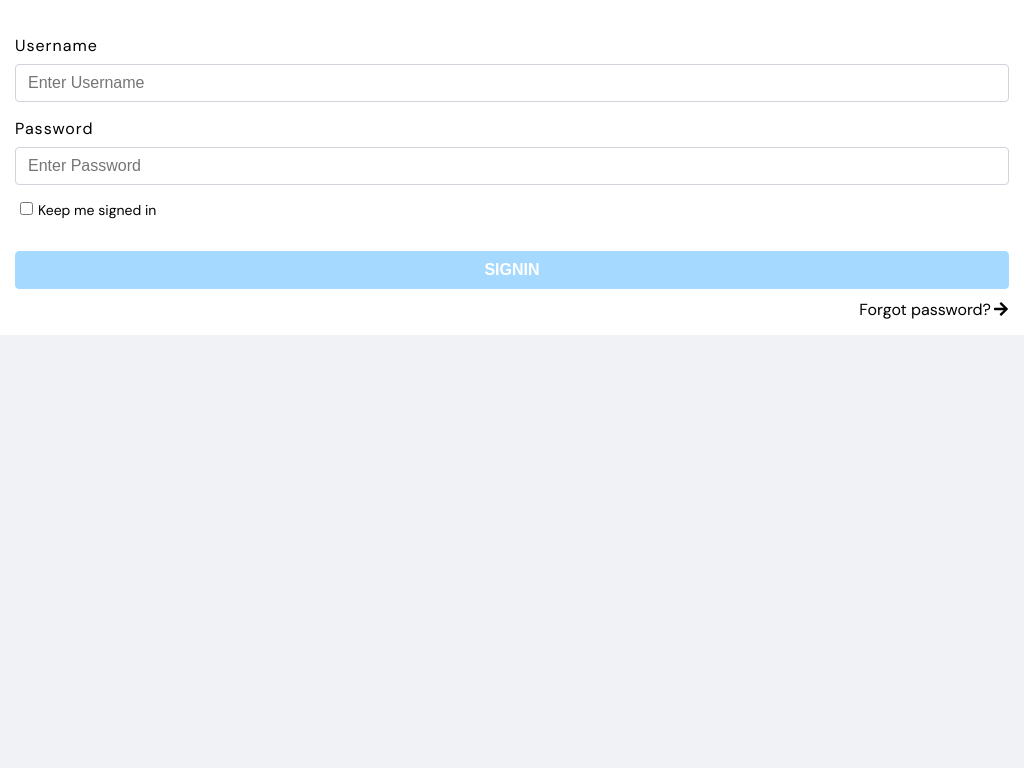
it: SignIn › Error › should display error alert and border
The width and height of the screenshot is (1024, 768).
Type "ma" into the field labelled "Username".
click(512, 83); type("ma")  # box [15,64,1009,102]
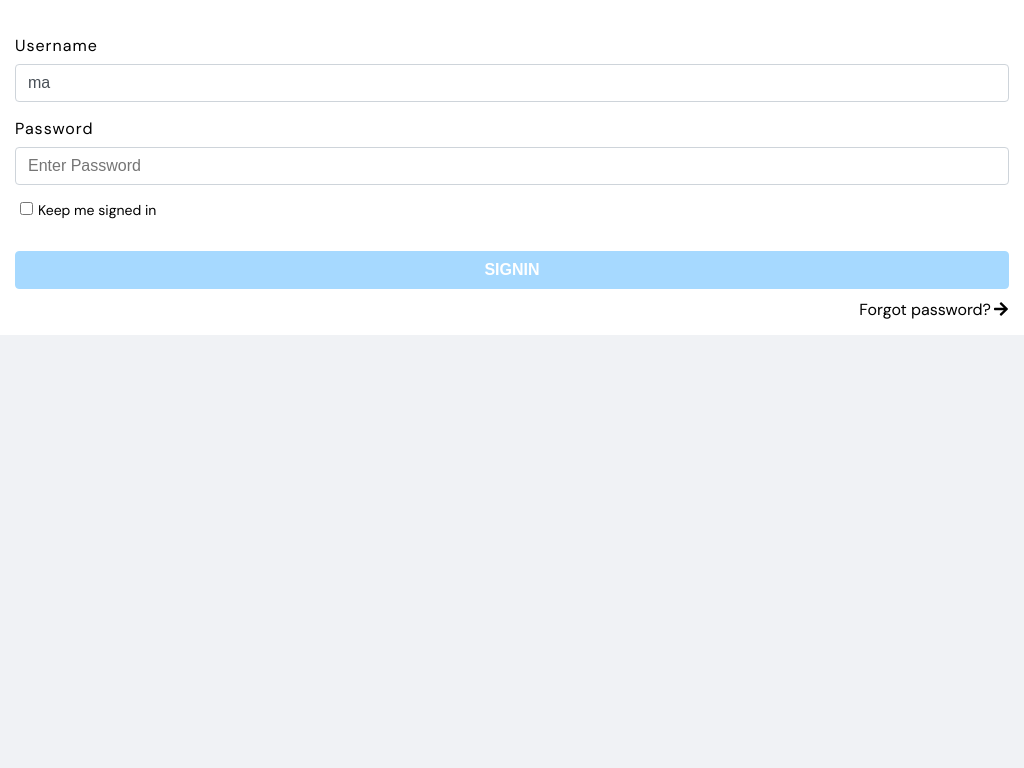
Type "qwerty" into the password field labelled "Password".
click(512, 166); type("qwerty")  # box [15,147,1009,185]
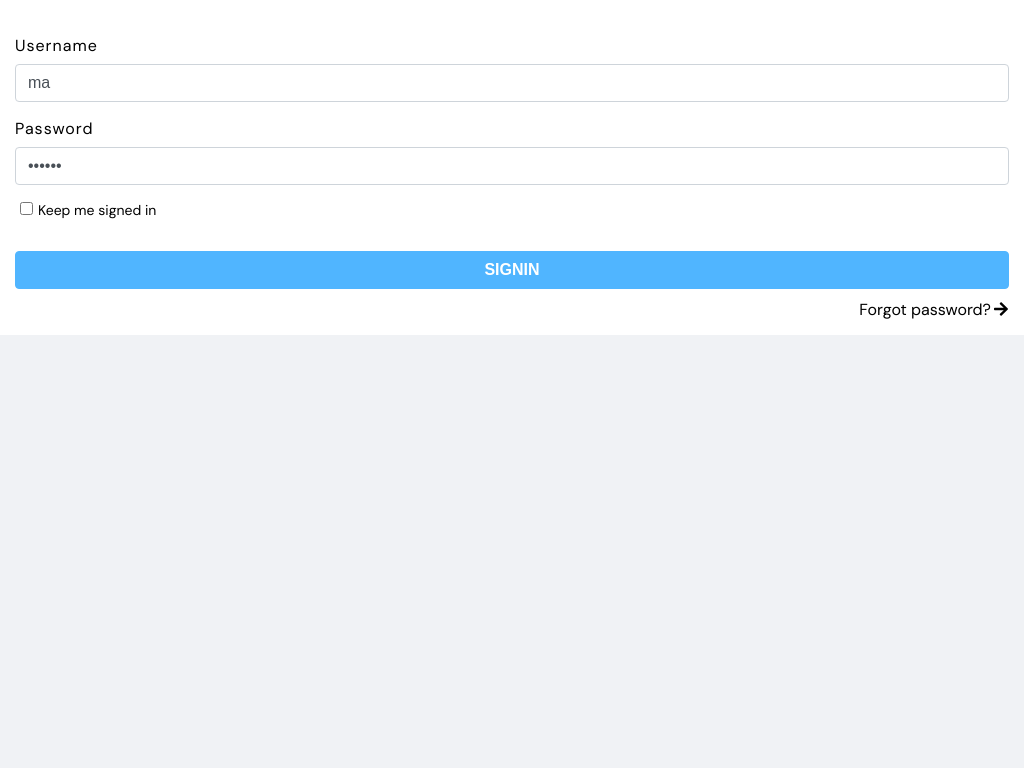
Click the button.
click(512, 270)  # box [15,251,1009,289]
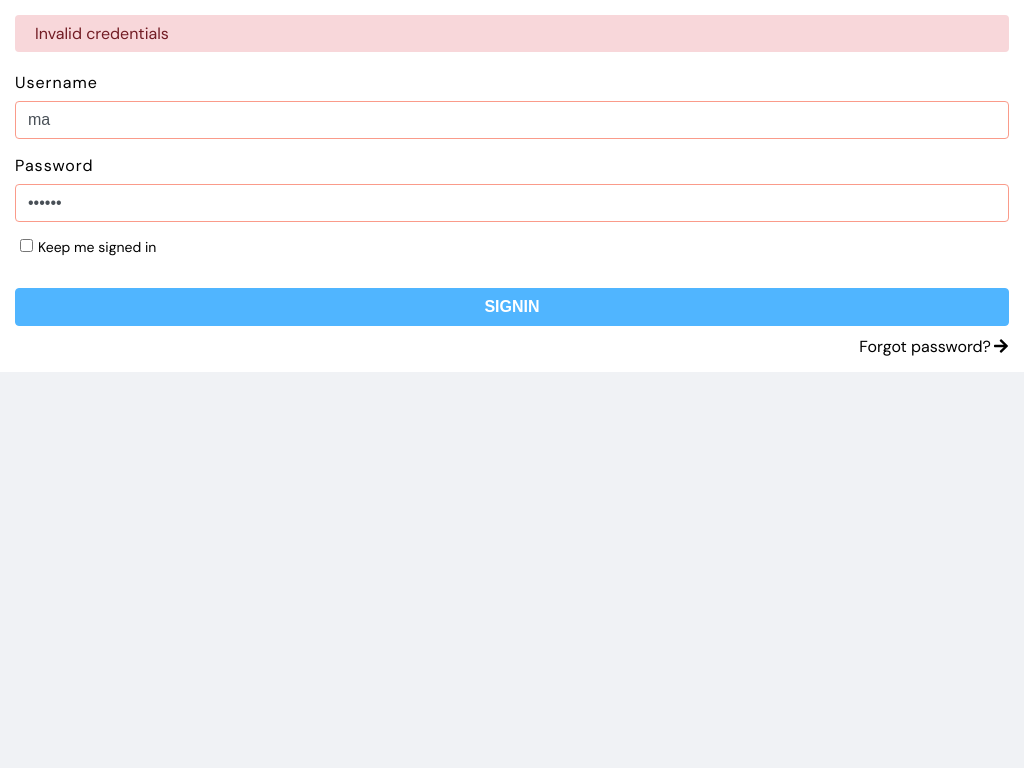
Now the message "Invalid credentials" is shown, box [15,15,1009,52]
Now the message reads "Invalid credentials", box [35,23,169,44]
